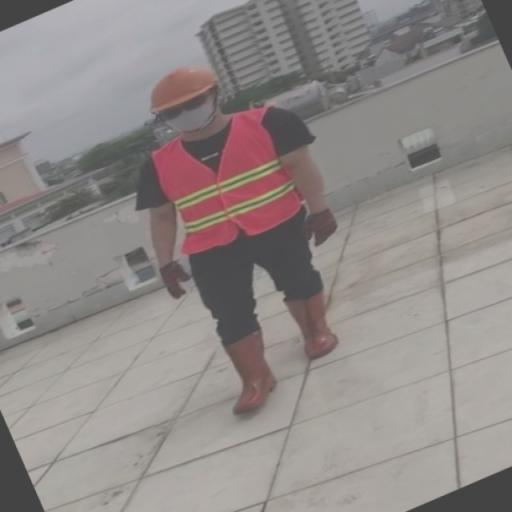Person: (113, 52, 379, 426)
boots: (209, 326, 279, 417), (278, 285, 344, 363)
gloves: (297, 204, 343, 251), (156, 259, 194, 299)
goggles: (152, 85, 218, 126)
helmet: (148, 60, 221, 116)
vest: (146, 102, 308, 261)
